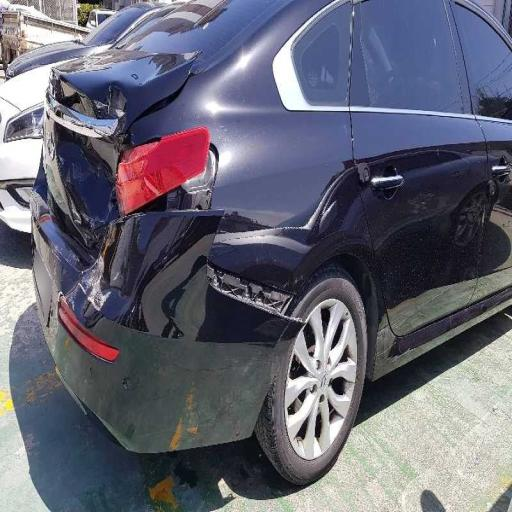broken: (22, 46, 220, 354)
